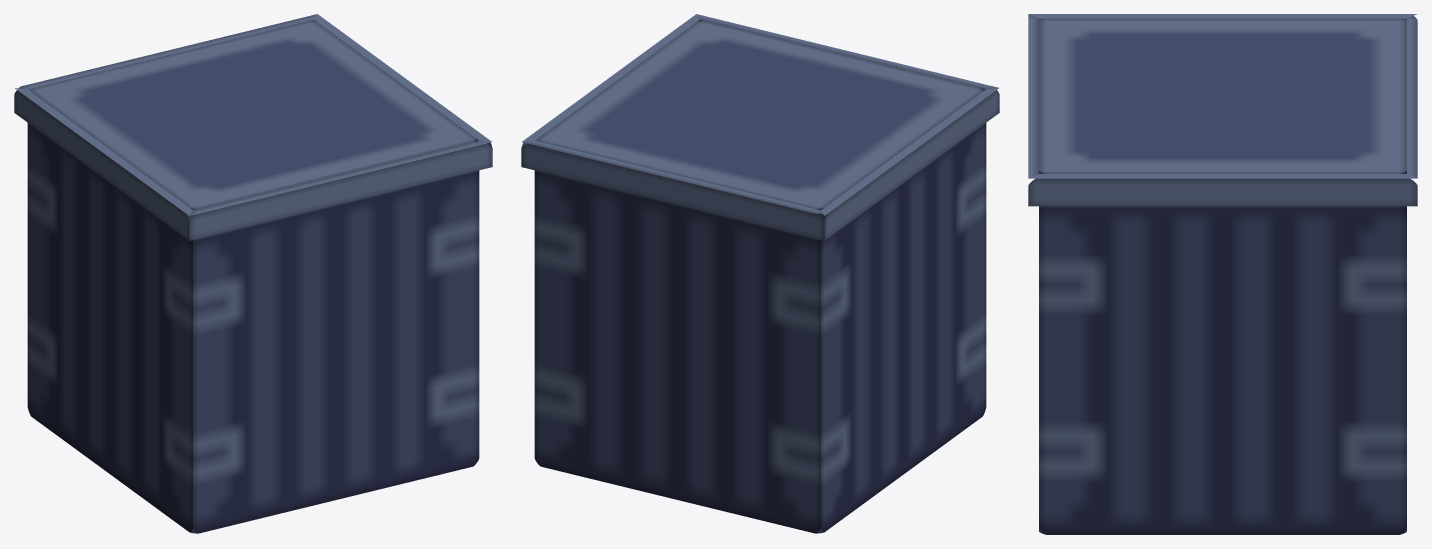
The model's file is MetalCrate.obj.
3 views of the same model, side by side, from view 1: azimuth 30°, elevation 25°; view 2: azimuth 150°, elevation 25°; view 3: azimuth 270°, elevation 25° (orthographic). The views are drawn at different scales.
Parts seen in each view (by area): view 1: cuboid; view 2: cuboid; view 3: cuboid.
Boxes of the visible parts, bbox=[...] form: cuboid: bbox=[14, 14, 492, 533]; cuboid: bbox=[521, 14, 999, 533]; cuboid: bbox=[1028, 14, 1417, 534].
Bounding box in the file's own units: 1.59 × 1.62 × 1.59.
1 material, 1 textured.
